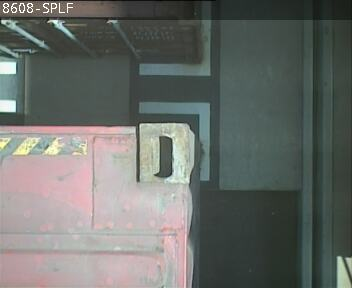groundmarker_1: (137, 3, 212, 180)
